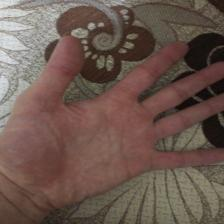five: (20, 34, 224, 178)
